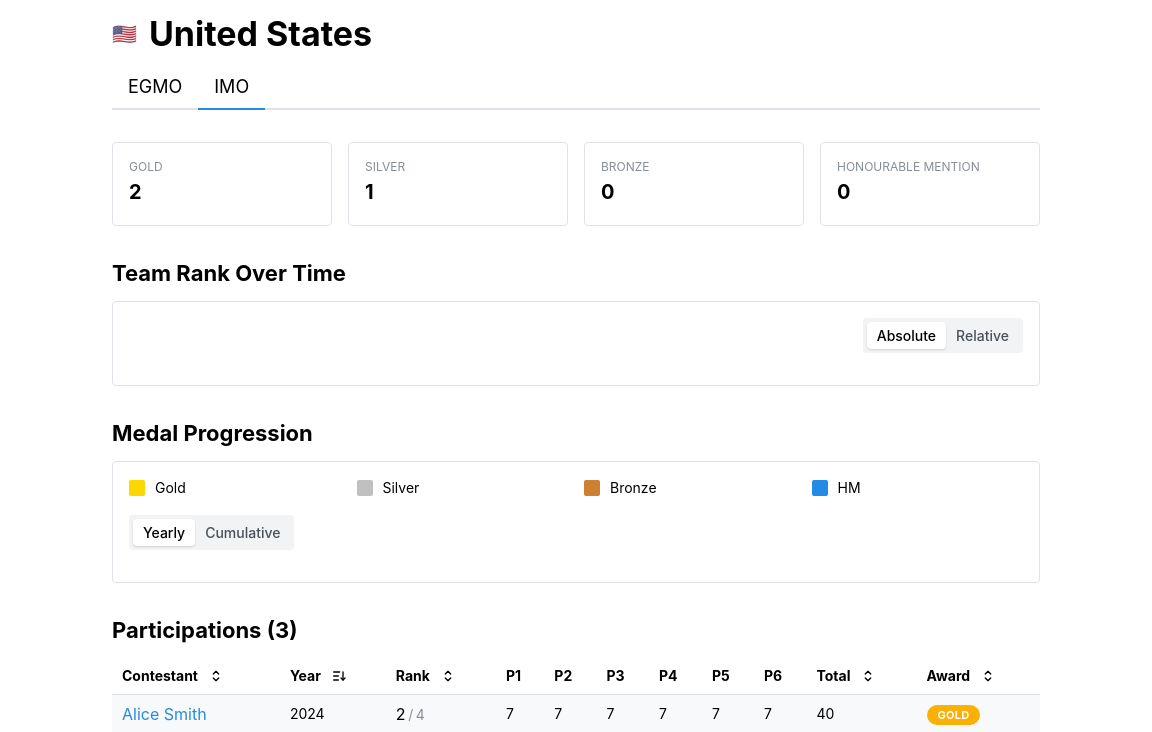
it: CountryIndividual › source tab switching › filters participations when switching source tabs
The width and height of the screenshot is (1152, 732).
Check: the link "Alice Smith" is shown, box [122,704,207,724]
// Click on EGMO tab
Click the tab "EGMO" at {"x": 155, "y": 88}, box [112,66,198,110]
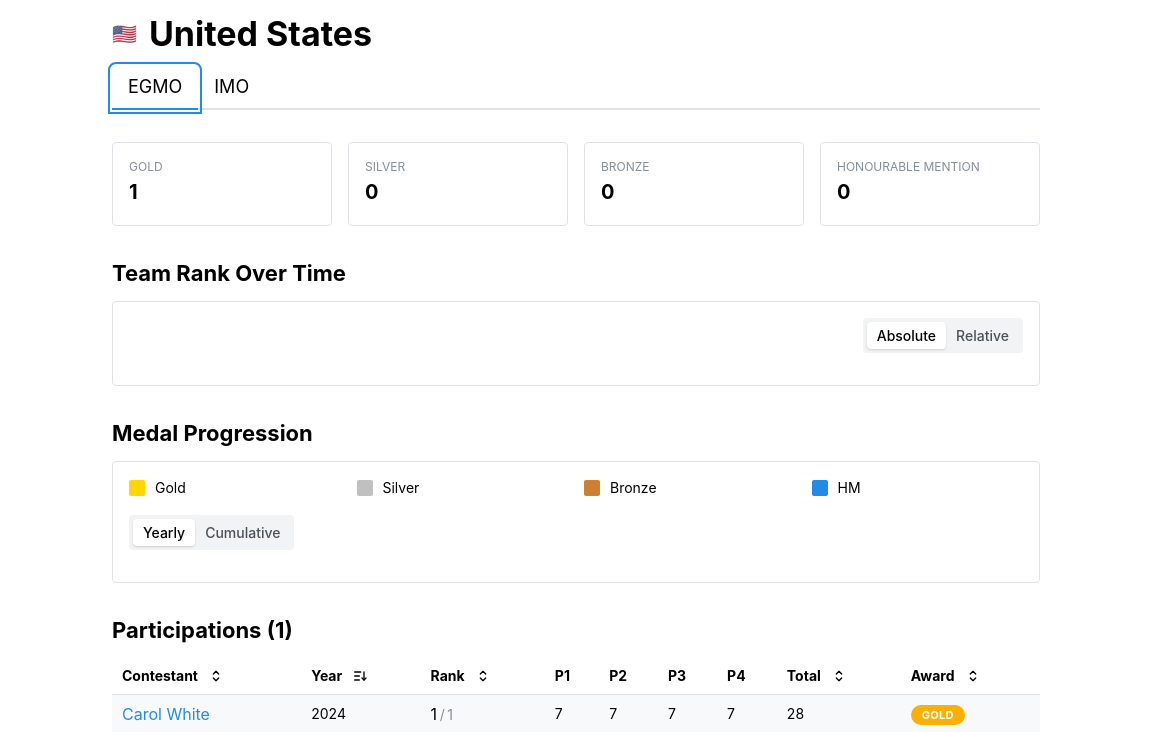
Check: the link "Carol White" is shown, box [122,704,210,724]
